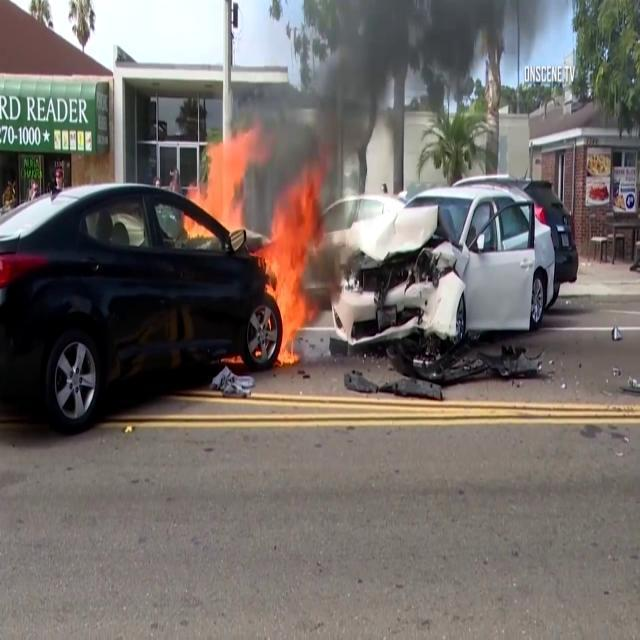Fire: (258, 178, 320, 366), (188, 120, 254, 232)
Smoke: (252, 0, 498, 192)
